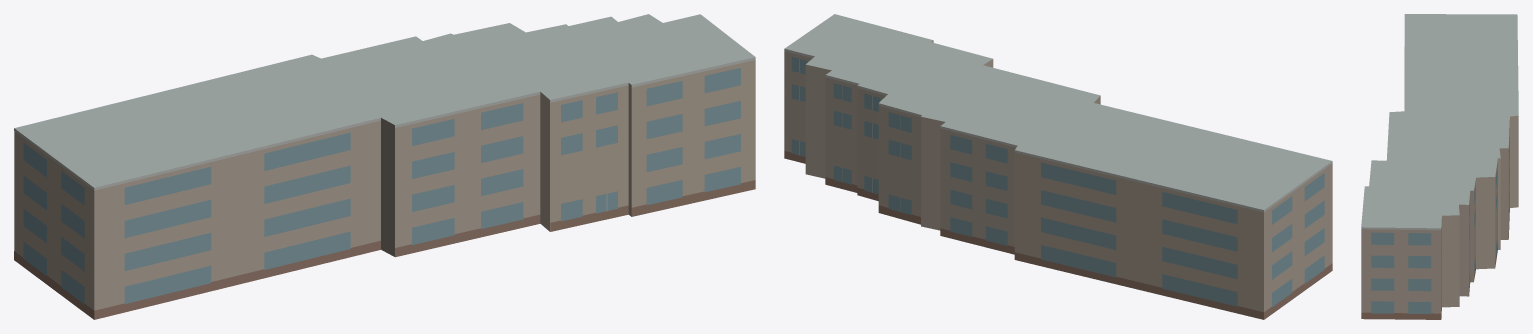
Rendered from survey-upis-32887165.glb.
The picture shows the model from 3 angles, left to right: view 1: azimuth 30°, elevation 25°; view 2: azimuth 150°, elevation 25°; view 3: azimuth 270°, elevation 25°; orthographic projection. The views are drawn at different scales.
Visible parts, largest first — view 1: survey-upis-32887165.tmp; view 2: survey-upis-32887165.tmp; view 3: survey-upis-32887165.tmp.
Boxes of the visible parts, <box> form: survey-upis-32887165.tmp: <box>14,14,755,319</box>; survey-upis-32887165.tmp: <box>784,14,1332,319</box>; survey-upis-32887165.tmp: <box>1361,14,1518,319</box>.
Size of the model in its own units: 57.18 by 11.4 by 17.79.
